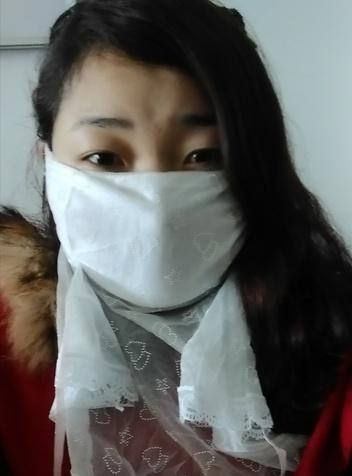face_mask: (55, 45, 236, 308)
